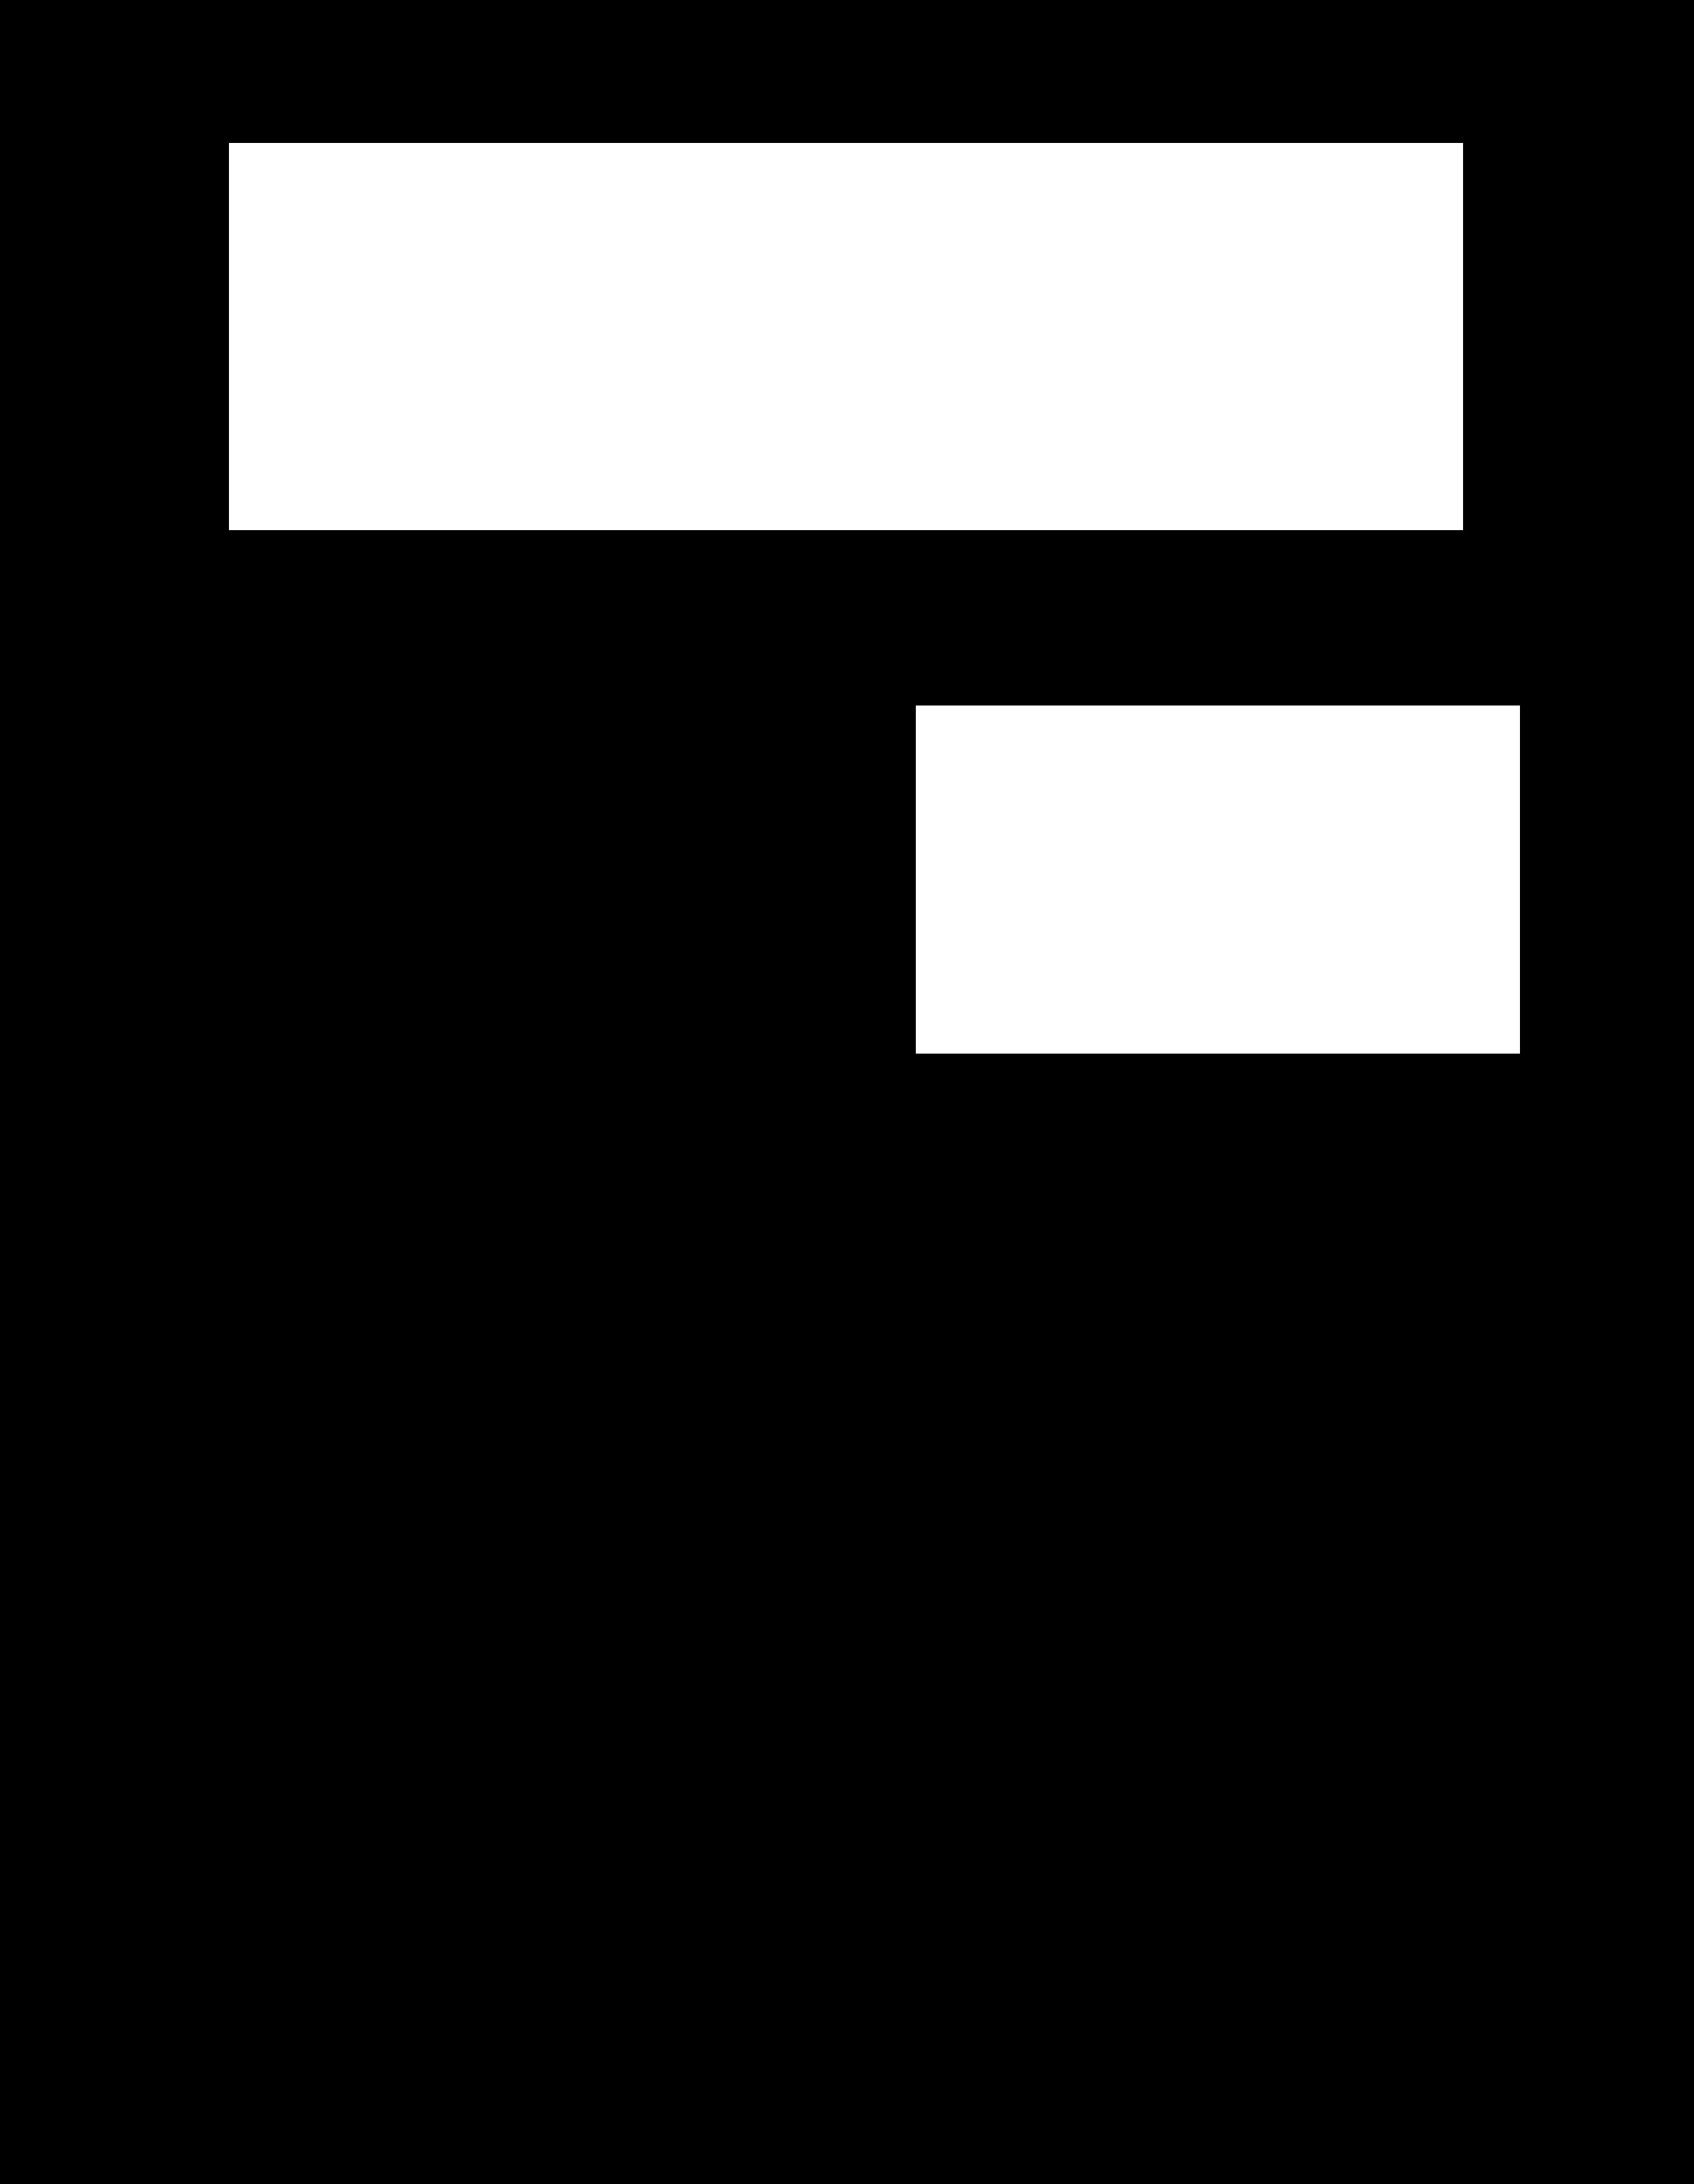table: (229, 144, 1462, 530), (916, 706, 1519, 1053)
